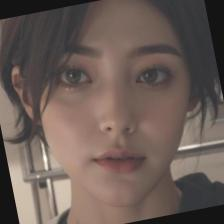Normal: (50, 1, 184, 198)
